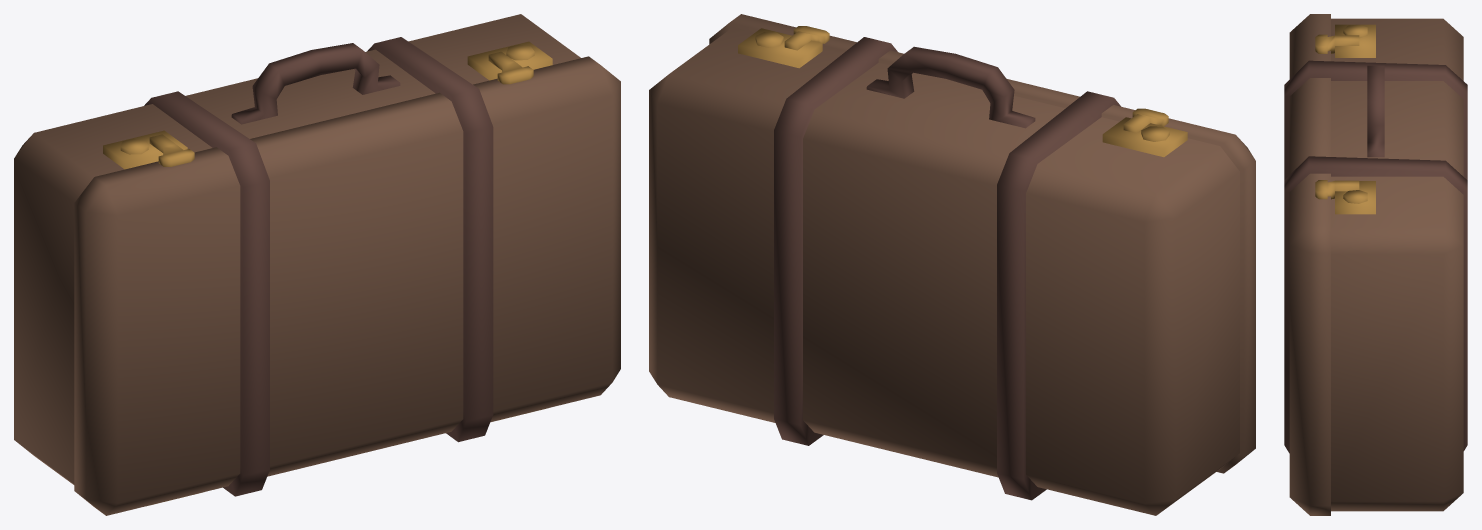
The model's file is HandSuitcase_Medium.fbx.
The picture shows the model from 3 angles, left to right: view 1: azimuth 30°, elevation 25°; view 2: azimuth 150°, elevation 25°; view 3: azimuth 270°, elevation 25°; orthographic projection. The views are drawn at different scales.
Visible parts, largest first — view 1: HandSuitcase_Medium; view 2: HandSuitcase_Medium; view 3: HandSuitcase_Medium.
Part boxes in pixels (<box>): HandSuitcase_Medium: <box>14,14,620,515</box>; HandSuitcase_Medium: <box>649,14,1255,515</box>; HandSuitcase_Medium: <box>1284,14,1467,515</box>.
Size of the model in its own units: 137 by 93.05 by 46.3.
